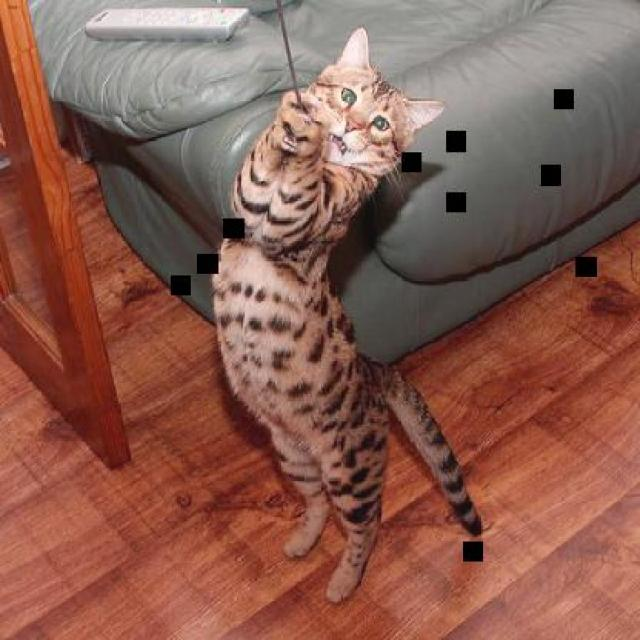unauthorized: (209, 25, 486, 603)
